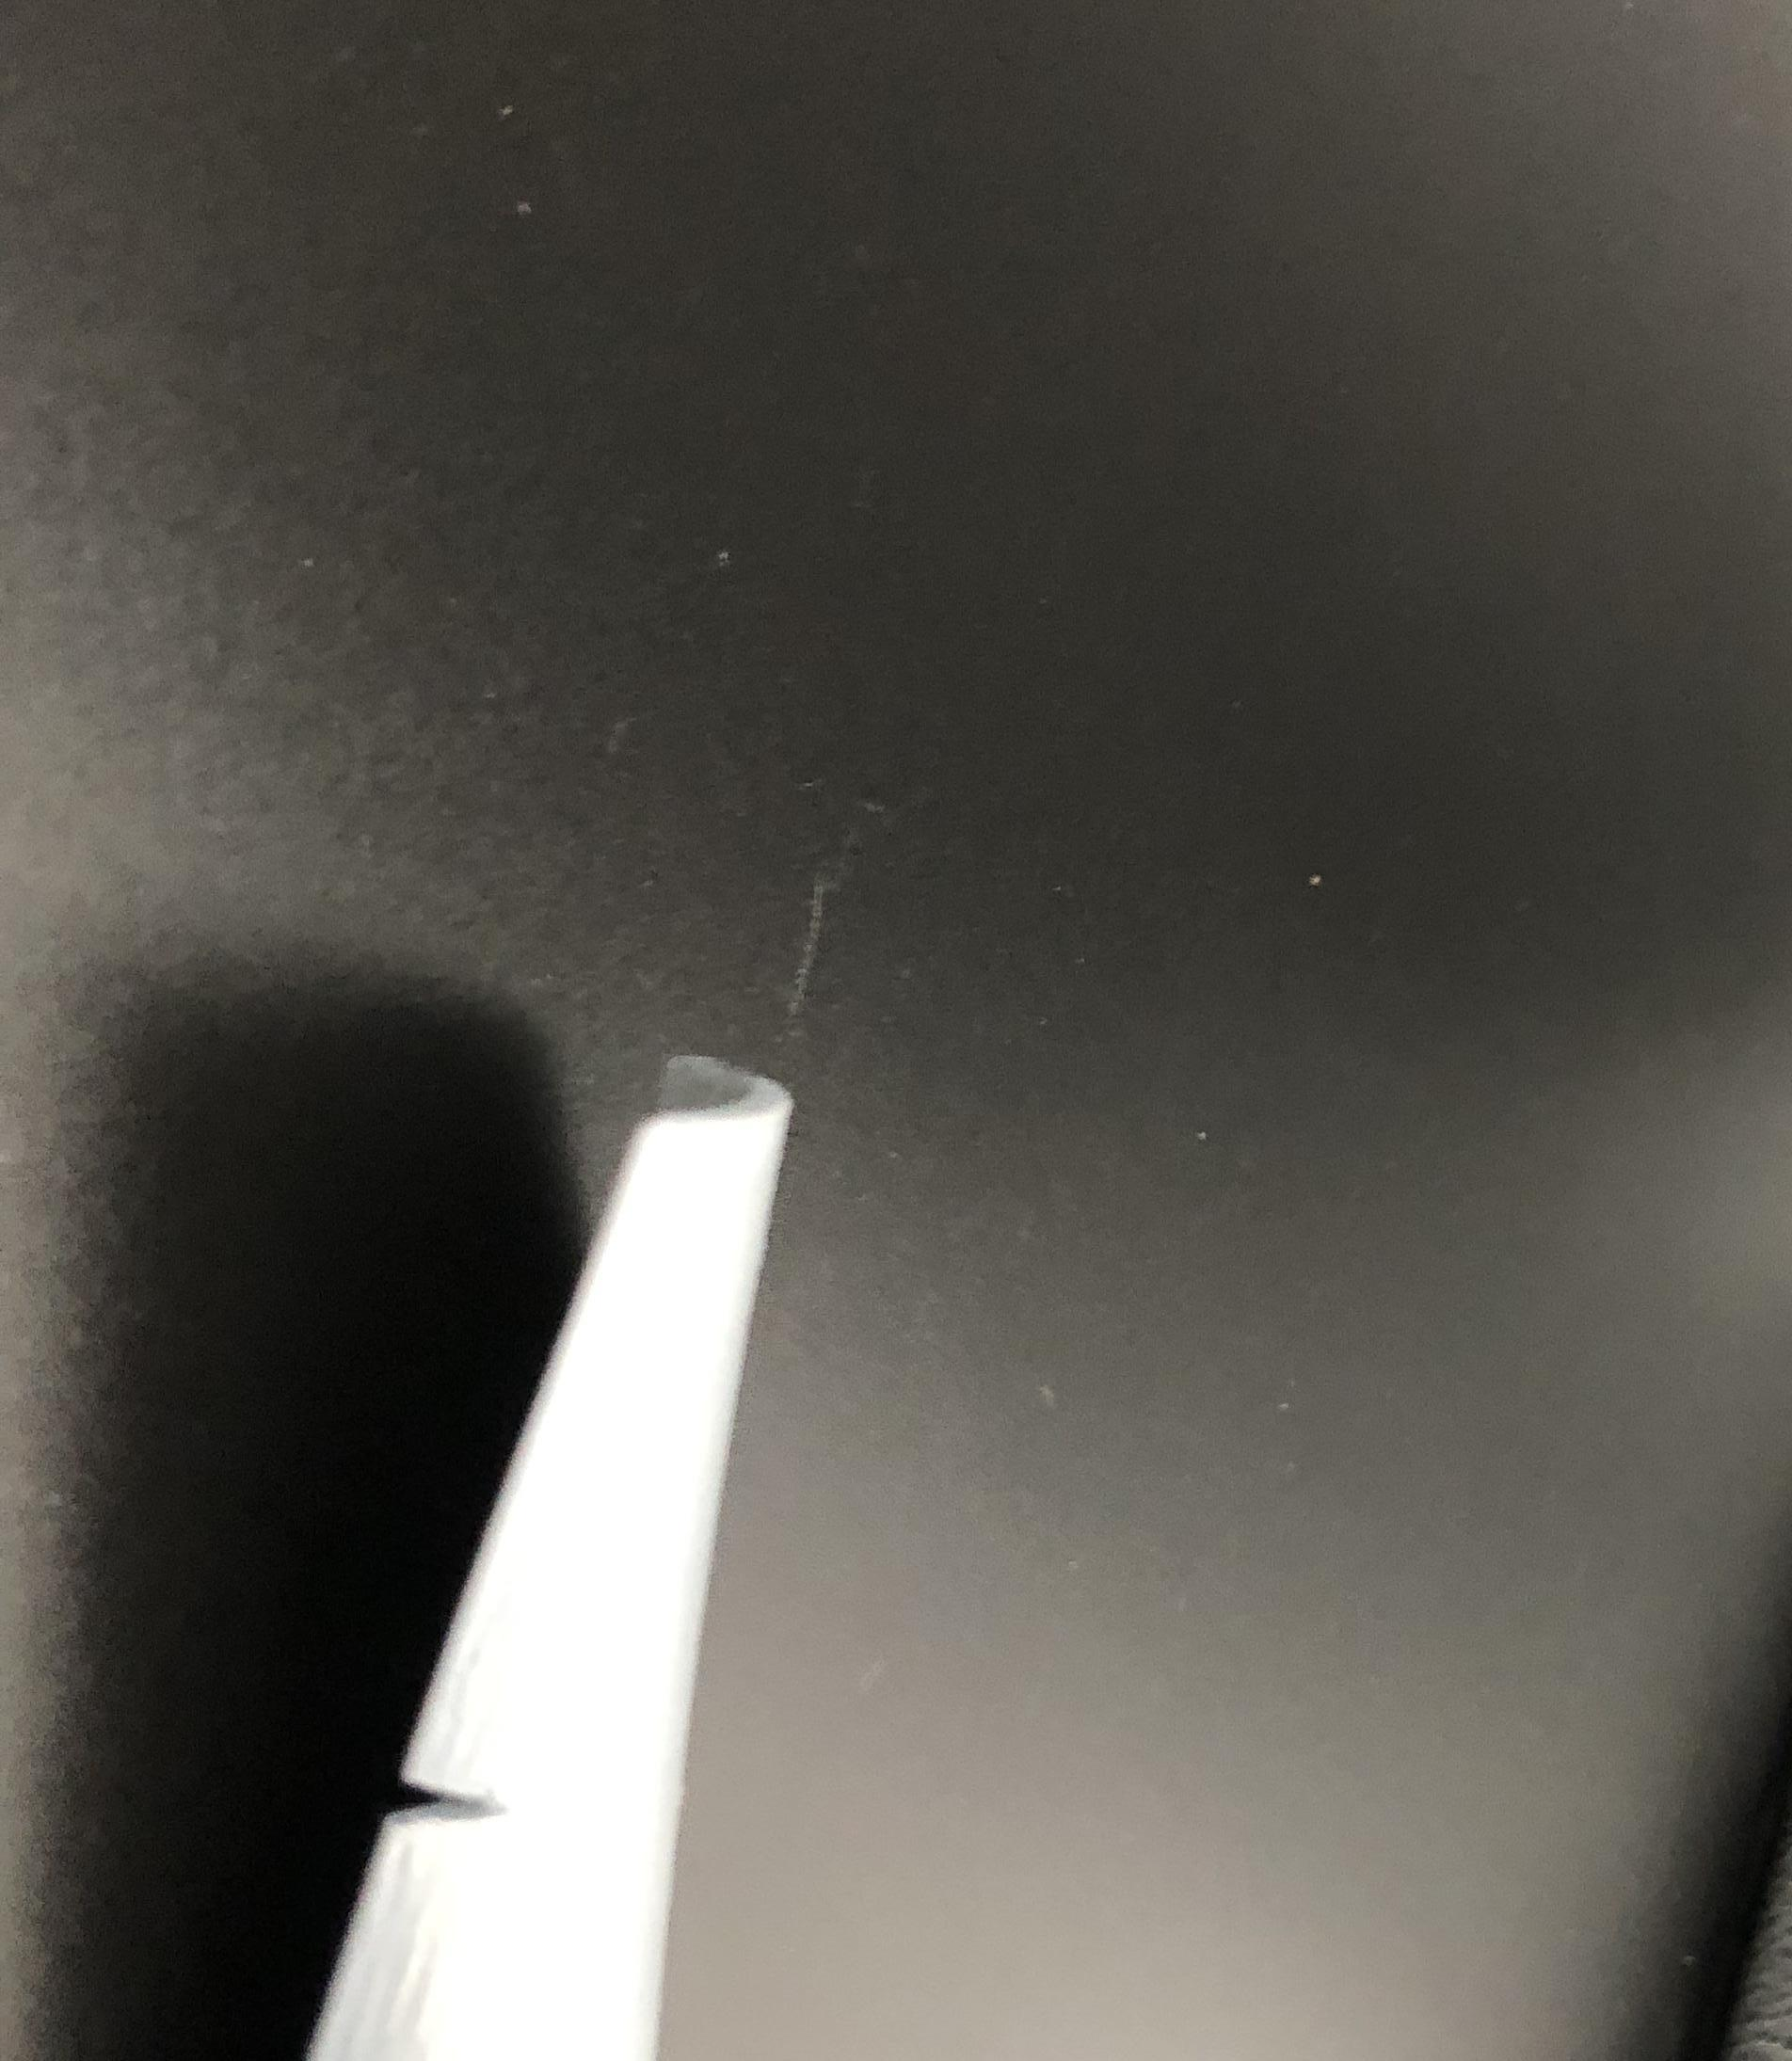groove: (379, 1760, 507, 1840)
